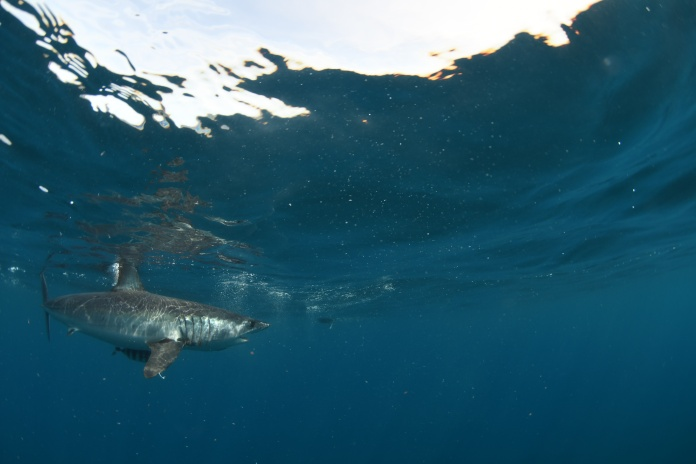Mako: (17, 256, 280, 386)
